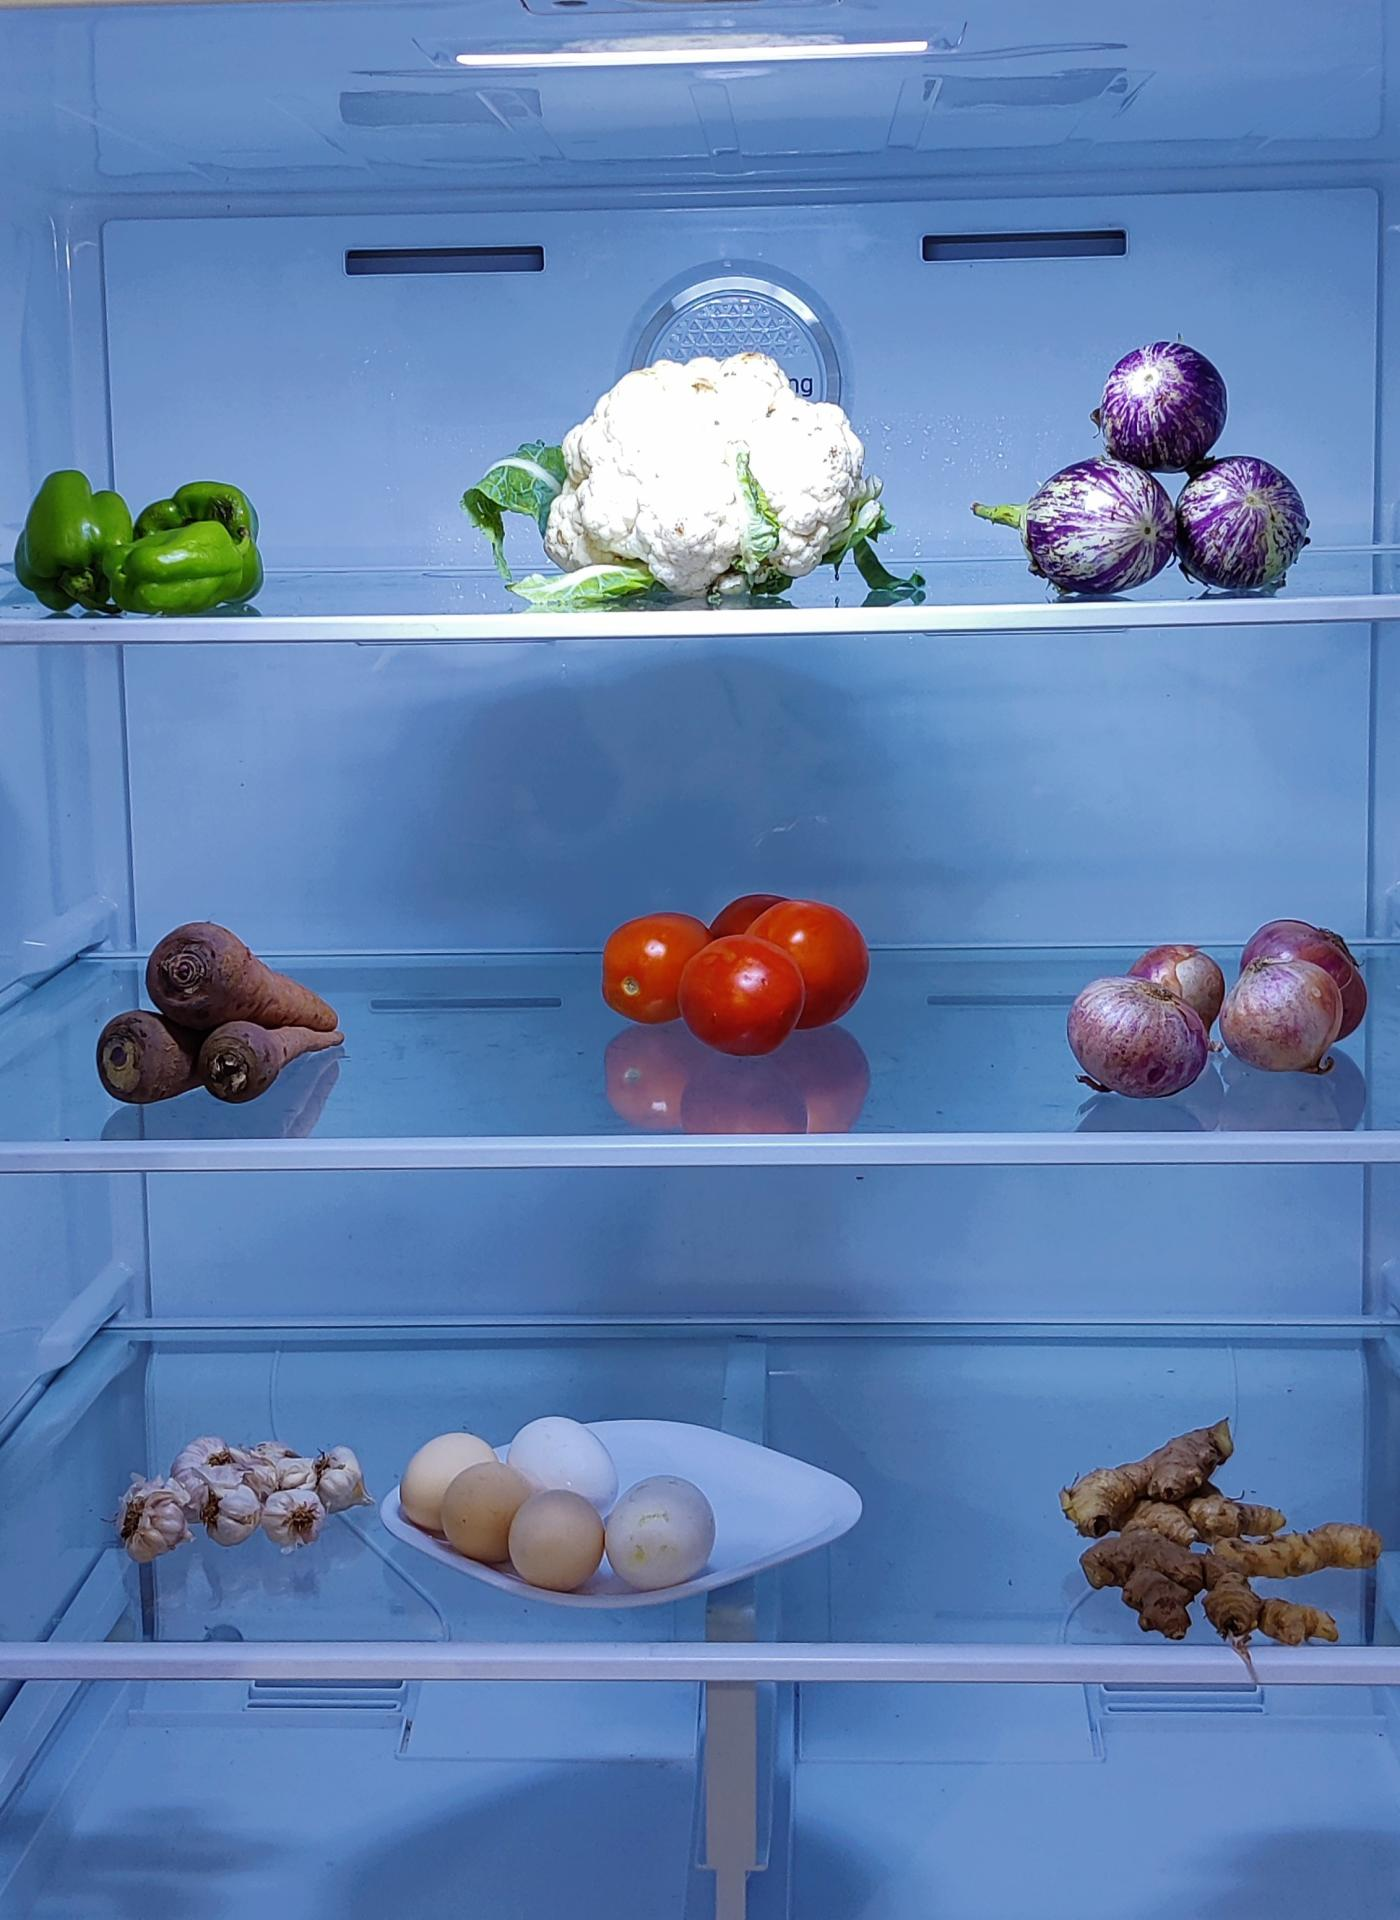brinjal: (1005, 326, 1319, 593)
capsicum: (15, 467, 274, 628)
carrots: (92, 917, 346, 1111)
cauliflower: (547, 350, 878, 589)
egg: (410, 1394, 732, 1585)
garlic: (106, 1433, 368, 1553)
ginger: (1071, 1434, 1378, 1650)
onion: (1068, 918, 1370, 1103)
tomato: (602, 894, 880, 1060)
